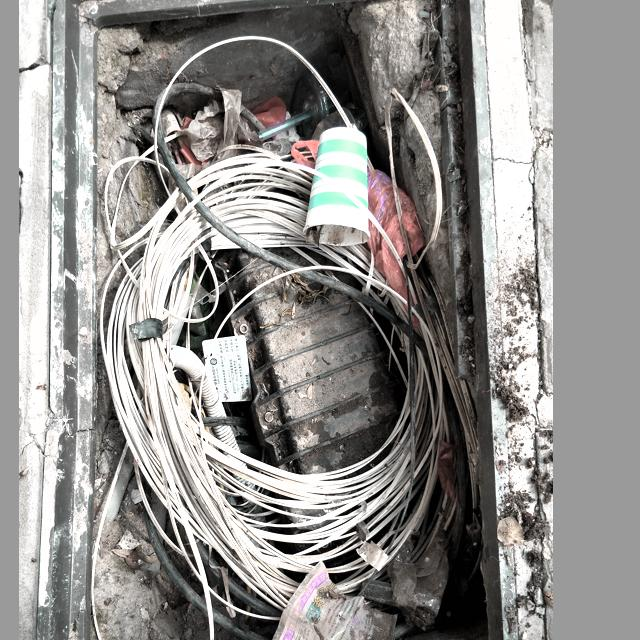lose: (33, 0, 520, 640)
